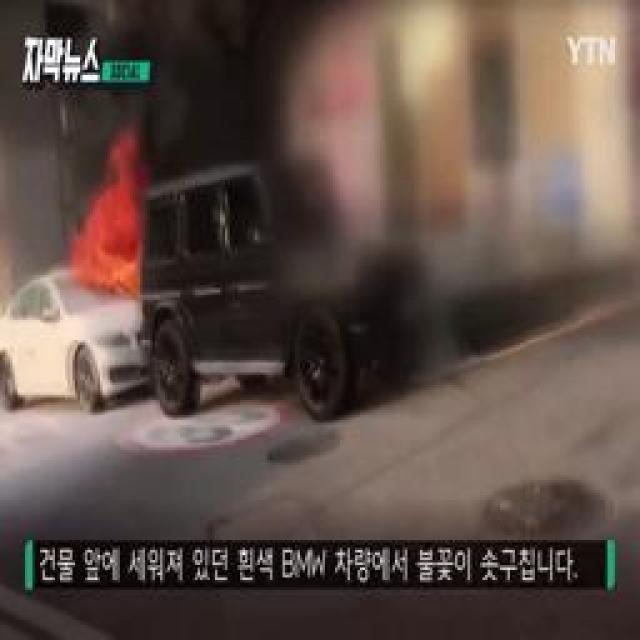Fire: (86, 195, 138, 294)
